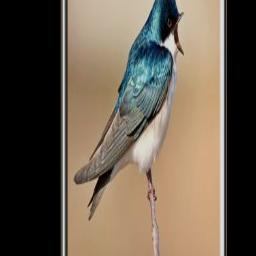Swallow: (72, 0, 187, 225)
